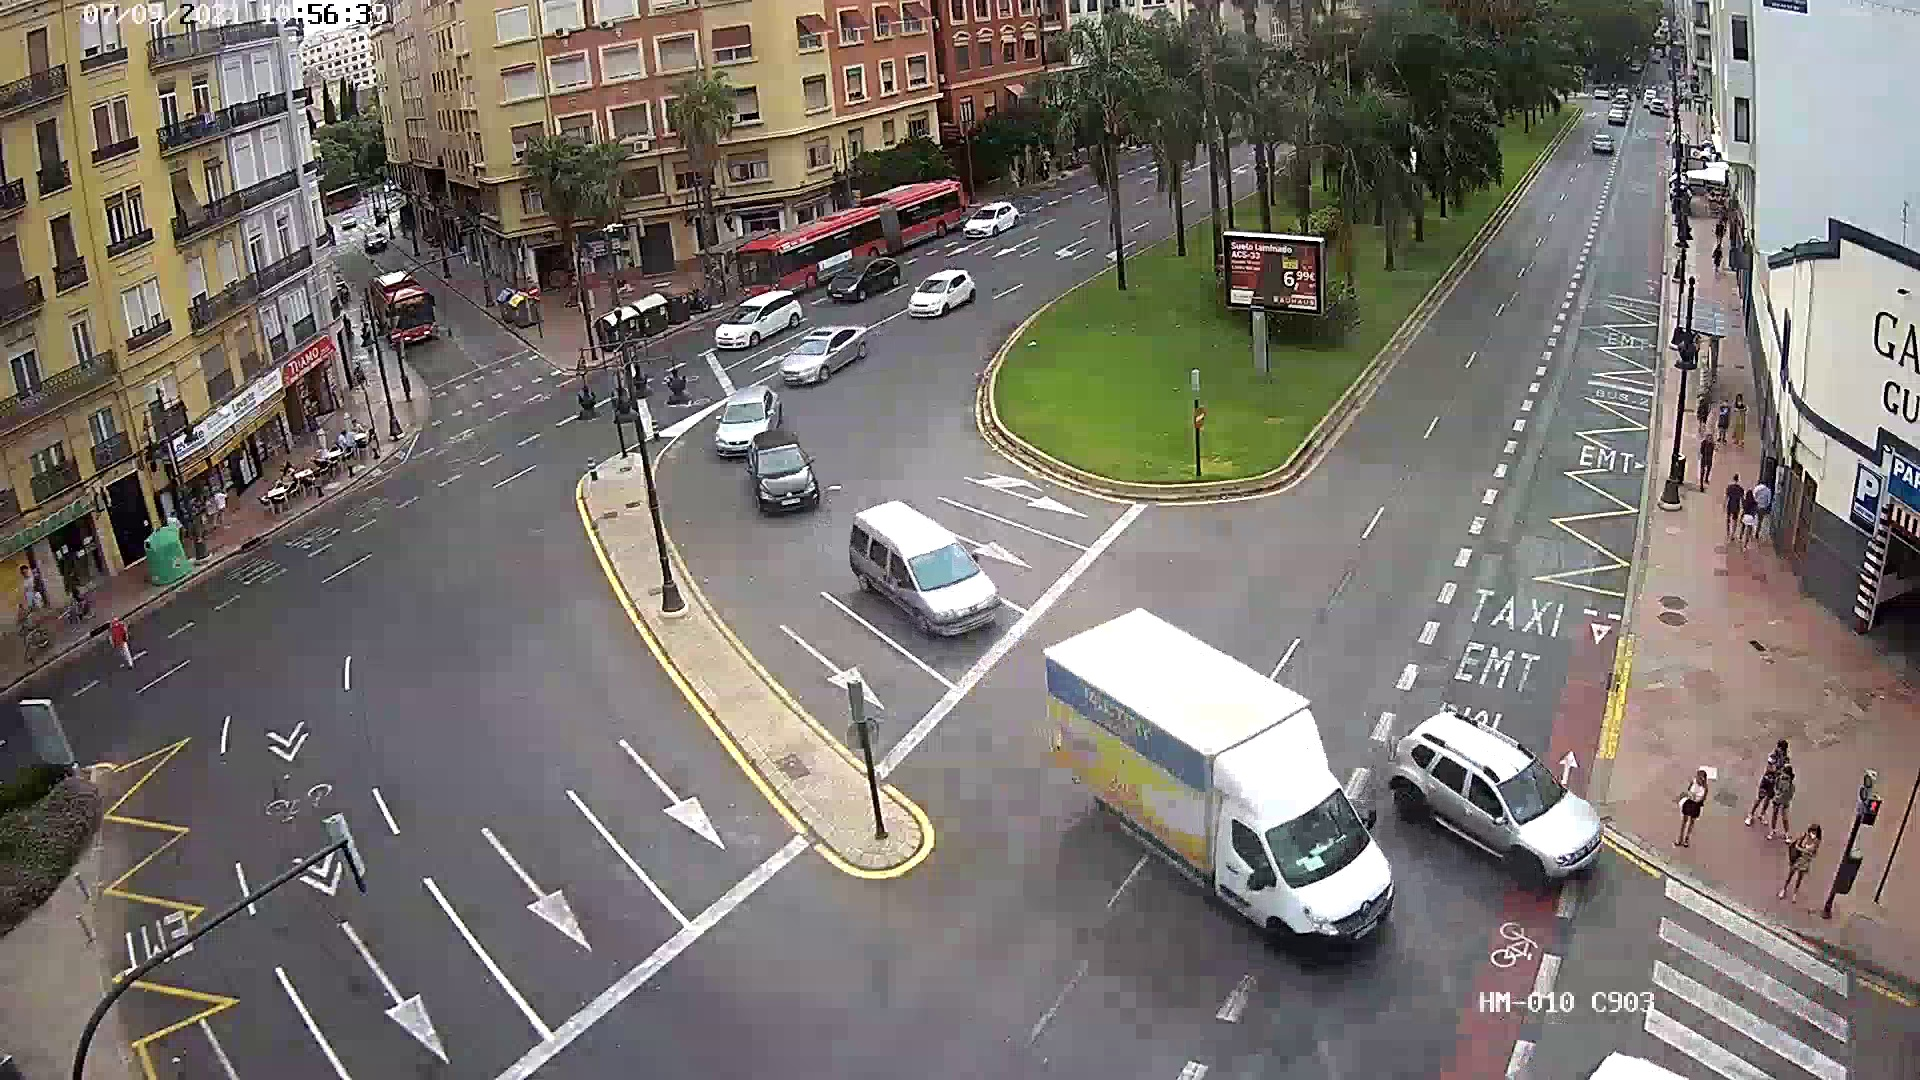Cars: (1385, 694, 1597, 885), (833, 497, 1005, 653), (742, 436, 820, 512), (785, 328, 864, 389), (720, 389, 774, 462)
